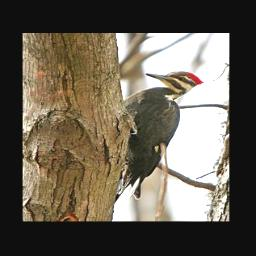Woodpecker: (113, 70, 205, 204)
